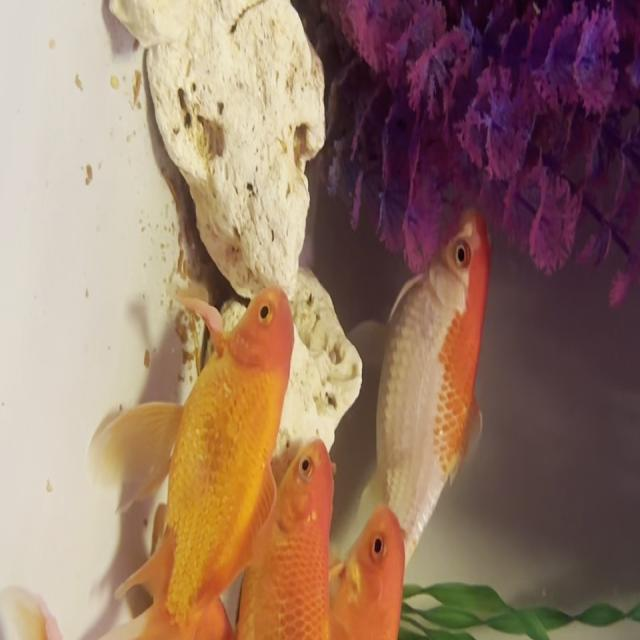fish: (99, 271, 292, 640), (363, 202, 485, 574), (163, 437, 340, 640), (273, 503, 403, 640)
